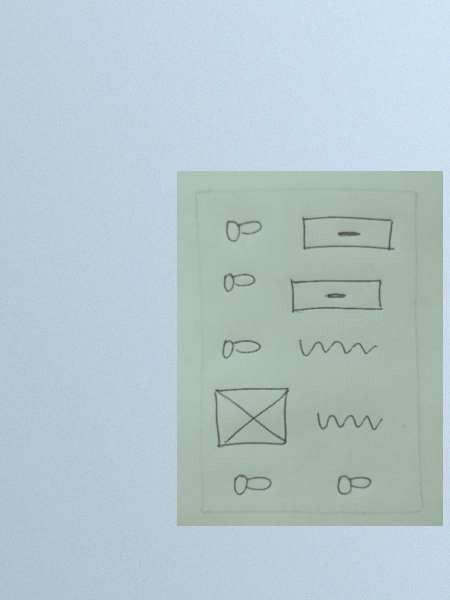image: (210, 382, 291, 452)
switch: (226, 467, 278, 500), (220, 333, 264, 367), (221, 215, 266, 247), (330, 471, 376, 499), (217, 268, 259, 297)
text: (294, 335, 381, 367), (312, 405, 386, 436)
text_input: (286, 274, 391, 318), (293, 212, 400, 255)
